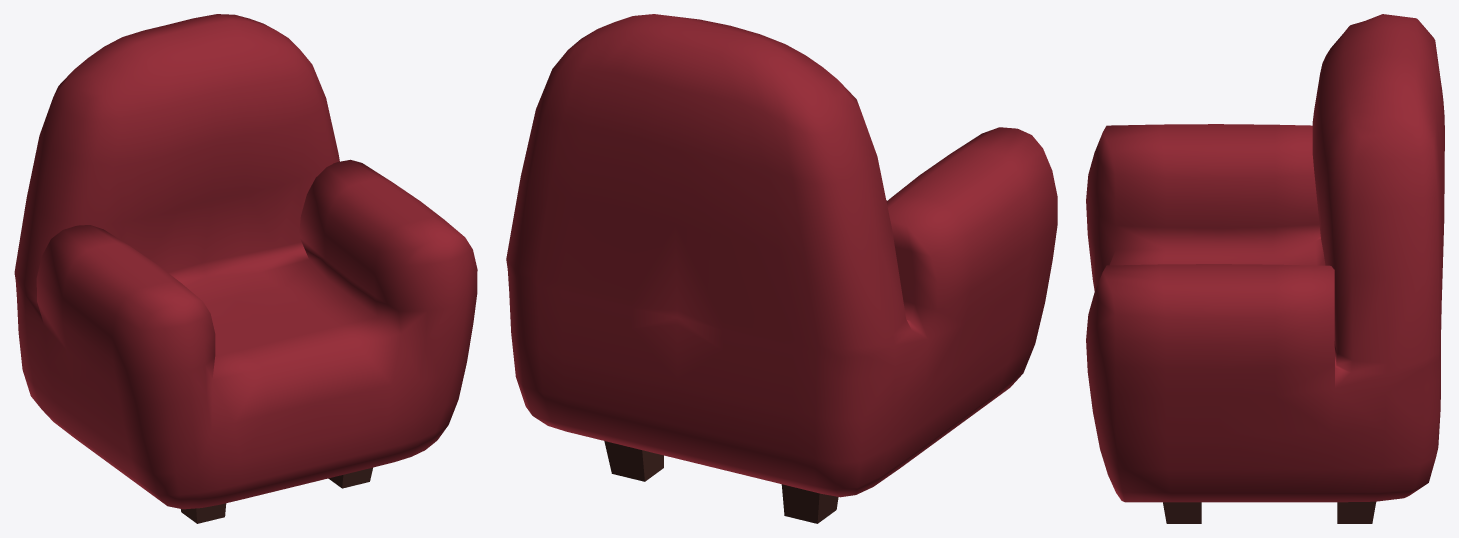
Rendered from single_sofa.glb.
The picture shows the model from 3 angles, left to right: view 1: azimuth 30°, elevation 25°; view 2: azimuth 150°, elevation 25°; view 3: azimuth 270°, elevation 25°; orthographic projection. The views are drawn at different scales.
Visible parts, largest first — view 1: sofa, legs; view 2: sofa, legs; view 3: sofa, legs.
Boxes of the visible parts, x1,y1,x2,y2 form: sofa: (14,14,477,509); legs: (181,467,372,523); sofa: (506,14,1057,497); legs: (604,441,838,523); sofa: (1086,14,1444,502); legs: (1163,501,1376,523).
Size of the model in its own units: 2.63 by 2.92 by 2.17.
